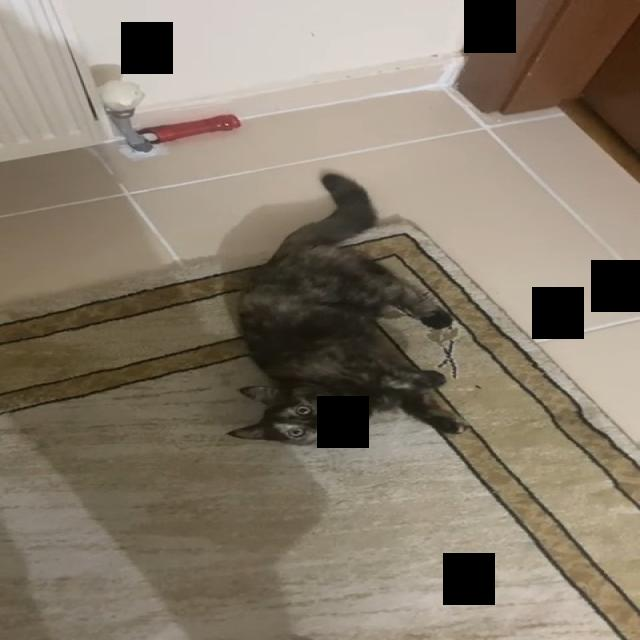authorized: (224, 172, 469, 446)
